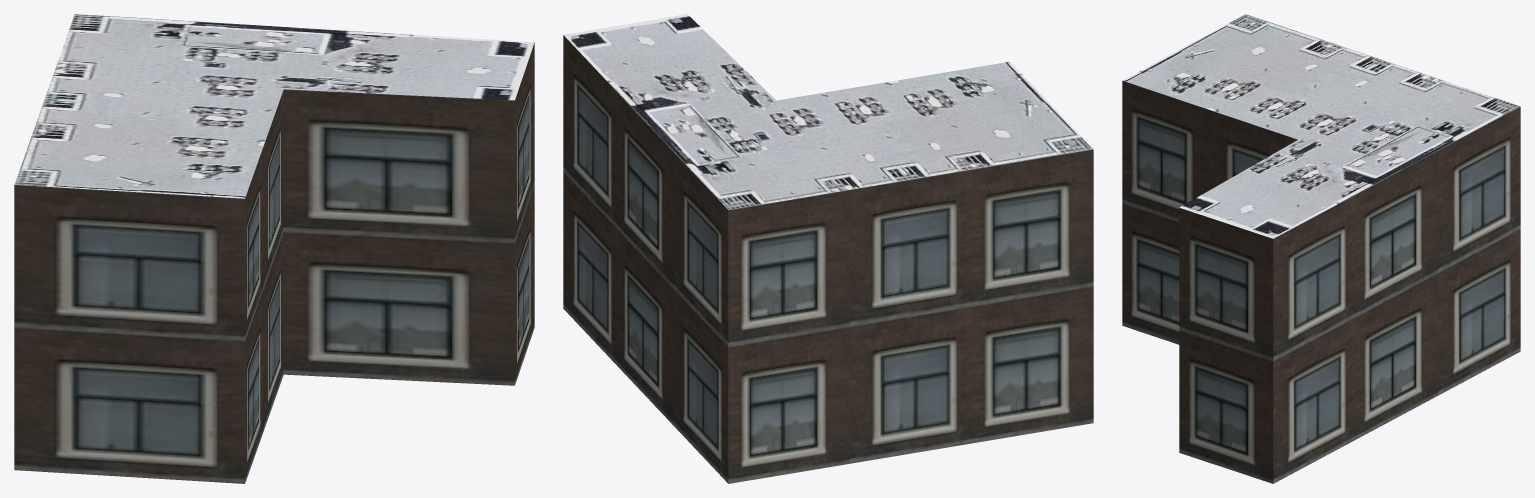
The model's file is ResTex__2120.fbx.
3 renders of one model, left to right at view 1: azimuth 30°, elevation 25°; view 2: azimuth 150°, elevation 25°; view 3: azimuth 270°, elevation 25°, orthographic. The views are drawn at different scales.
Visible parts, largest first — view 1: CityEngineMaterial_16_m, CityEngineMaterial_15_m; view 2: CityEngineMaterial_16_m, CityEngineMaterial_15_m; view 3: CityEngineMaterial_16_m, CityEngineMaterial_15_m.
Part boxes in pixels (x1,y1,x2,y2): CityEngineMaterial_16_m: (14,43,534,483); CityEngineMaterial_15_m: (14,14,534,198); CityEngineMaterial_16_m: (563,35,1093,483); CityEngineMaterial_15_m: (564,14,1092,209); CityEngineMaterial_16_m: (1122,80,1520,483); CityEngineMaterial_15_m: (1122,14,1520,238).
Bounding box in the file's own units: 11.8 × 6 × 8.84.
Materials: 2 (2 with a texture image).
